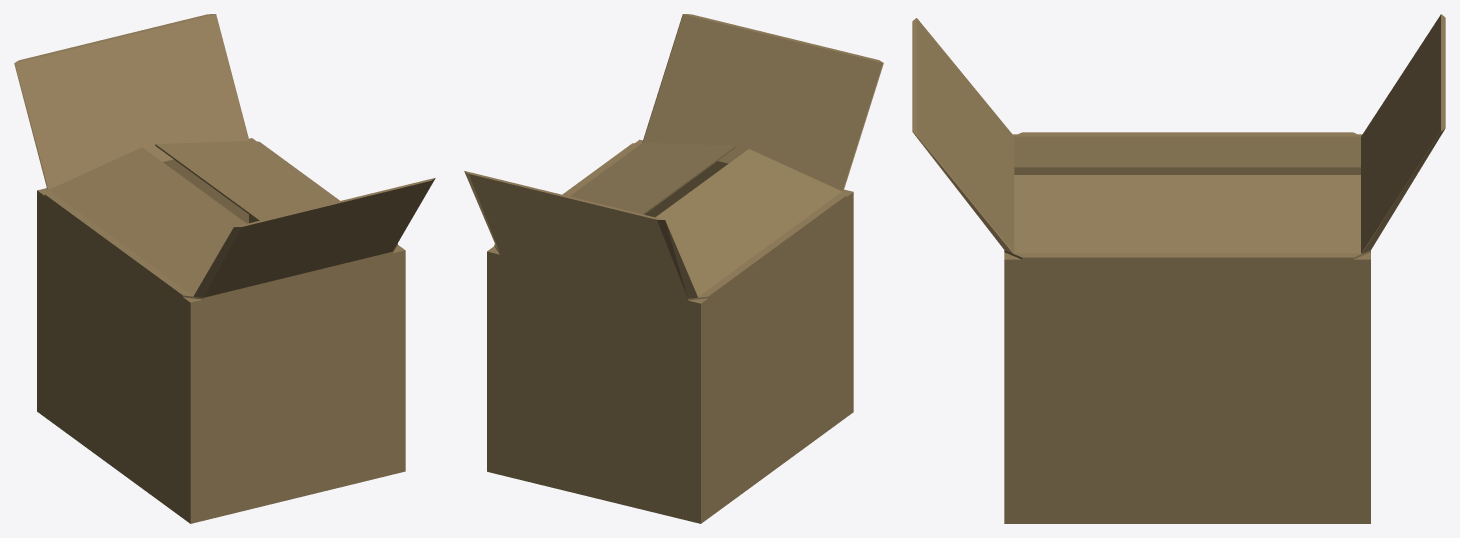
Rendered from Karton.fbx.
3 renders of one model, left to right at view 1: azimuth 30°, elevation 25°; view 2: azimuth 150°, elevation 25°; view 3: azimuth 270°, elevation 25°, orthographic. The views are drawn at different scales.
Parts seen in each view (by area): view 1: pCube1; view 2: pCube1; view 3: pCube1.
Part boxes in pixels (box(x1,y1,x2,y2)): pCube1: box(14, 14, 435, 523); pCube1: box(464, 14, 883, 523); pCube1: box(912, 14, 1445, 523).
Size of the model in its own units: 2.98 by 4.31 by 5.36.
